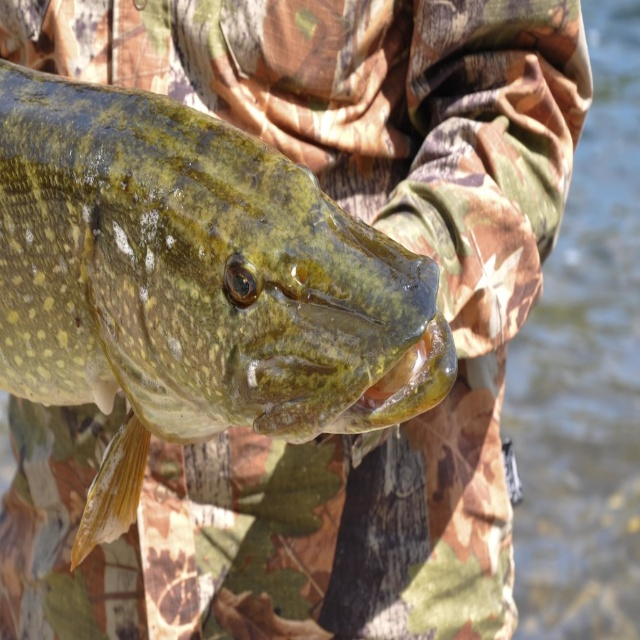Fish: (0, 61, 456, 572)
